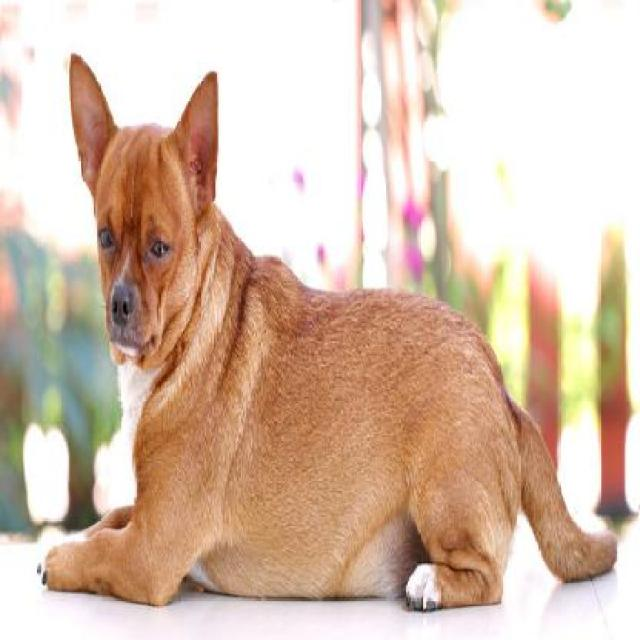Dog: (36, 46, 618, 617)
